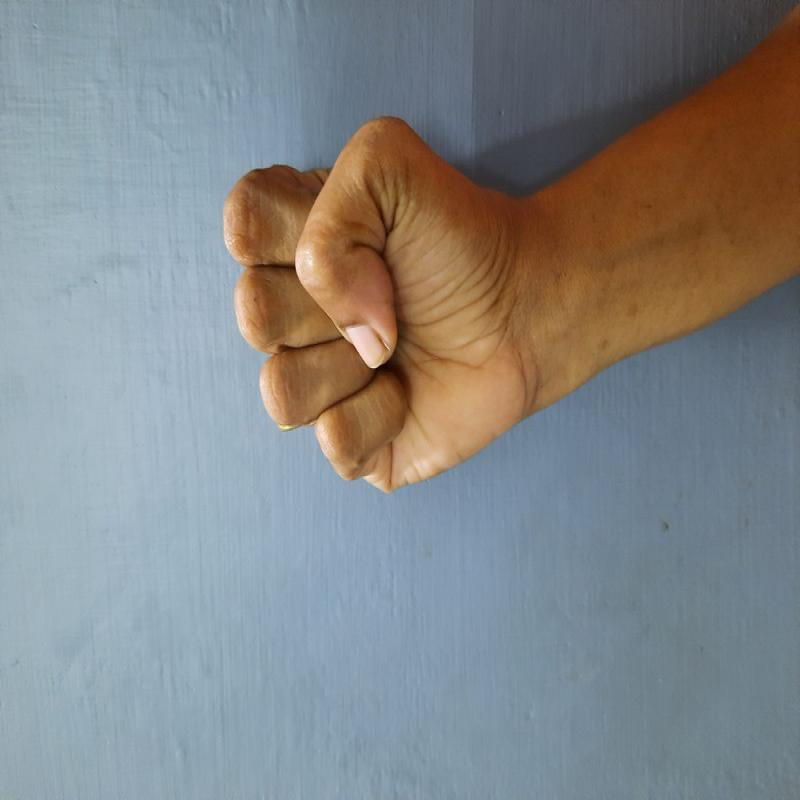Mushti: (210, 108, 543, 512)
